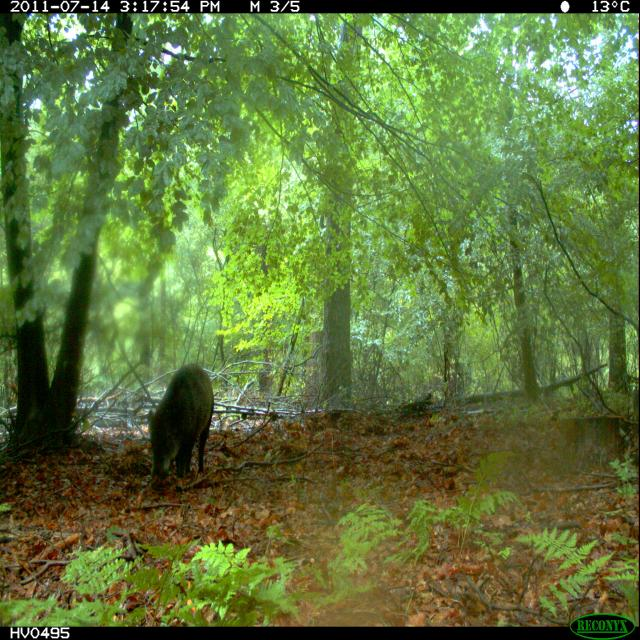boar: (139, 336, 229, 501)
